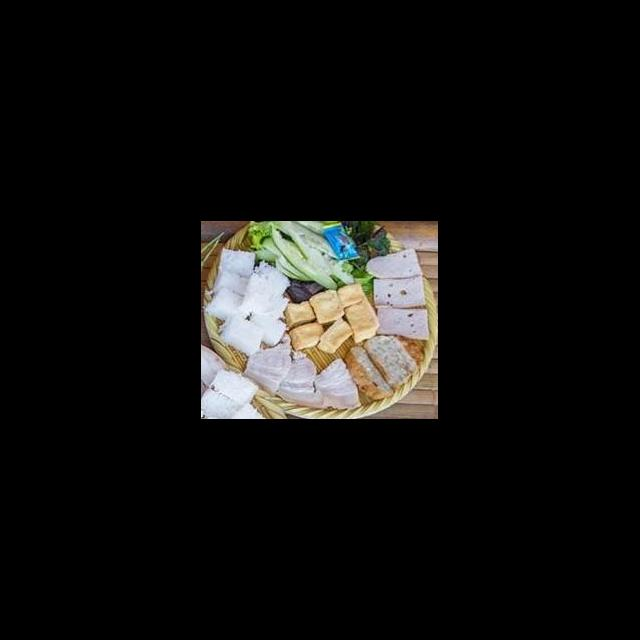bun: (202, 244, 294, 356)
bun dau: (204, 234, 430, 419)
cha com: (340, 331, 428, 405)
dau hu: (334, 279, 382, 344), (282, 297, 328, 350), (304, 287, 348, 326), (316, 316, 354, 353)
thit heo: (202, 342, 268, 419), (270, 348, 326, 412), (240, 335, 296, 397), (308, 355, 366, 410)
